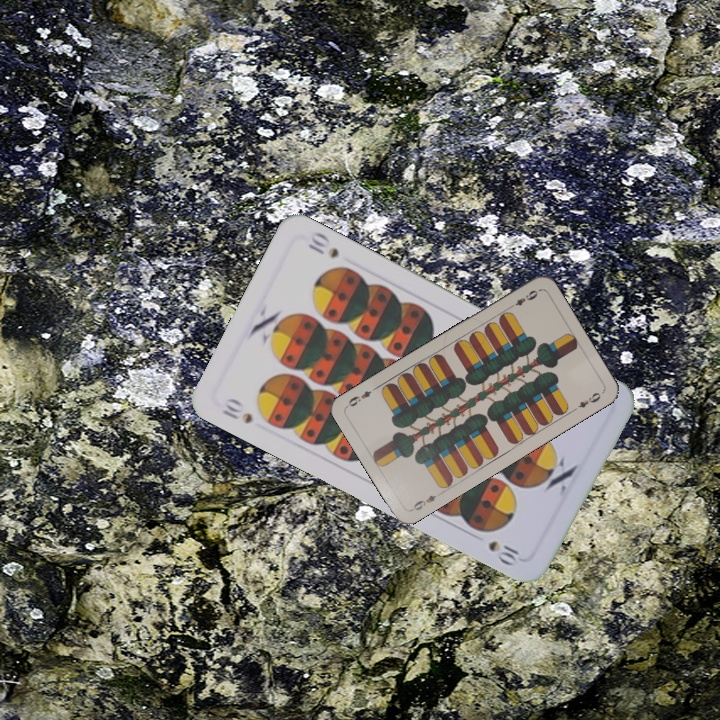E9: (407, 488, 444, 514), (505, 286, 541, 312)
S10: (217, 394, 255, 426)
